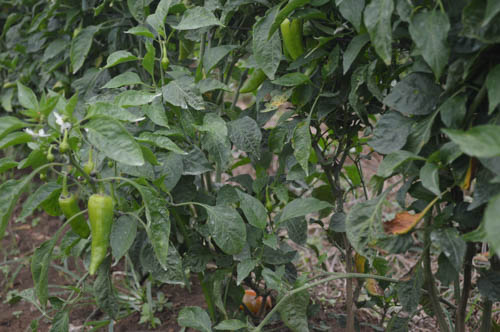ChiliPepper: (86, 194, 112, 279), (60, 197, 88, 238), (285, 19, 305, 65)
